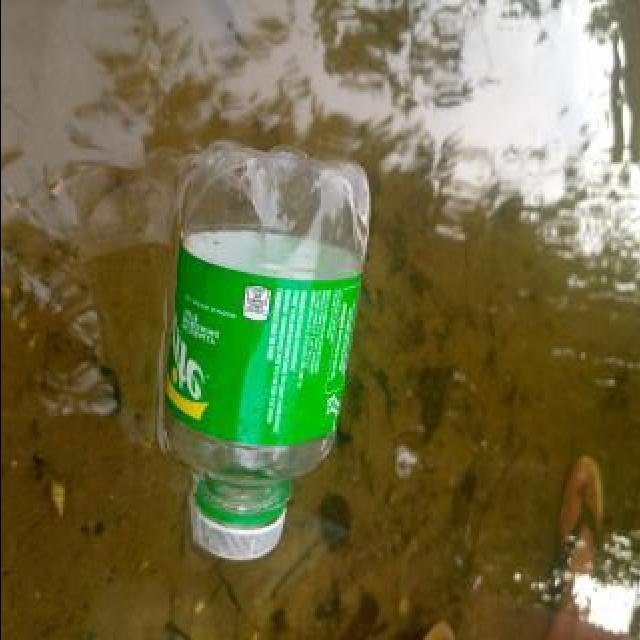Bottle: (152, 139, 372, 564)
